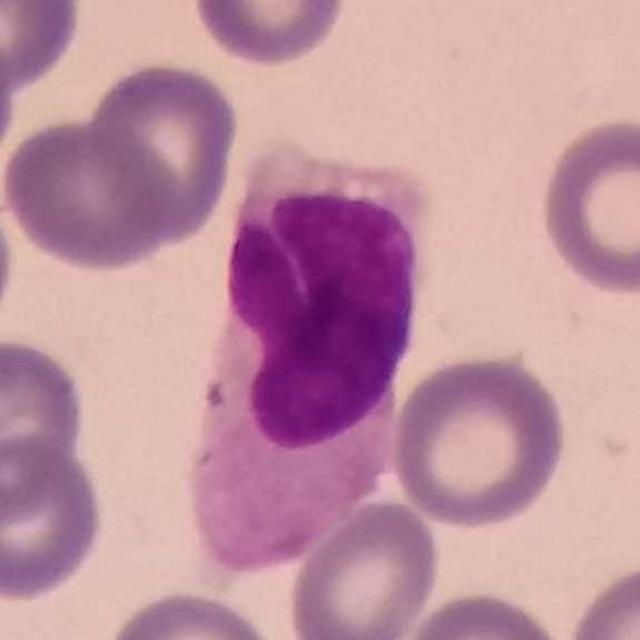Monocyte: (185, 150, 432, 570)
RBC: (386, 348, 571, 534), (83, 56, 244, 249), (1, 112, 177, 274), (283, 495, 444, 640), (534, 112, 640, 298), (0, 433, 110, 604), (0, 331, 91, 504), (187, 0, 351, 70), (98, 585, 284, 640), (398, 585, 574, 640), (0, 0, 88, 95), (563, 556, 640, 640)
